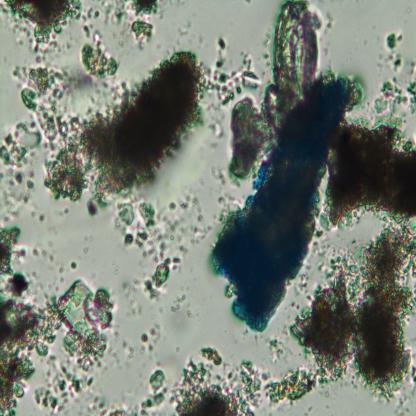Background material: (38, 48, 205, 218), (294, 222, 416, 403), (317, 115, 416, 225), (217, 66, 294, 196), (0, 224, 50, 416), (111, 196, 212, 262), (168, 346, 262, 416), (52, 276, 119, 370), (0, 108, 40, 227), (372, 26, 416, 129), (274, 0, 318, 101), (0, 0, 86, 49), (202, 31, 255, 100), (32, 365, 96, 416), (262, 362, 329, 408), (12, 61, 67, 113), (74, 28, 124, 81), (113, 0, 158, 46), (142, 253, 178, 303), (133, 367, 168, 416), (120, 277, 143, 315), (141, 320, 163, 354), (91, 397, 129, 416), (267, 336, 291, 366), (79, 6, 100, 34), (298, 268, 312, 304), (202, 345, 222, 366), (121, 338, 135, 360), (394, 398, 410, 416), (172, 296, 188, 312), (172, 256, 182, 274), (411, 361, 416, 392), (313, 225, 325, 237), (290, 300, 302, 310), (17, 246, 27, 258), (70, 259, 77, 270)
Fragment: (212, 73, 356, 333)
